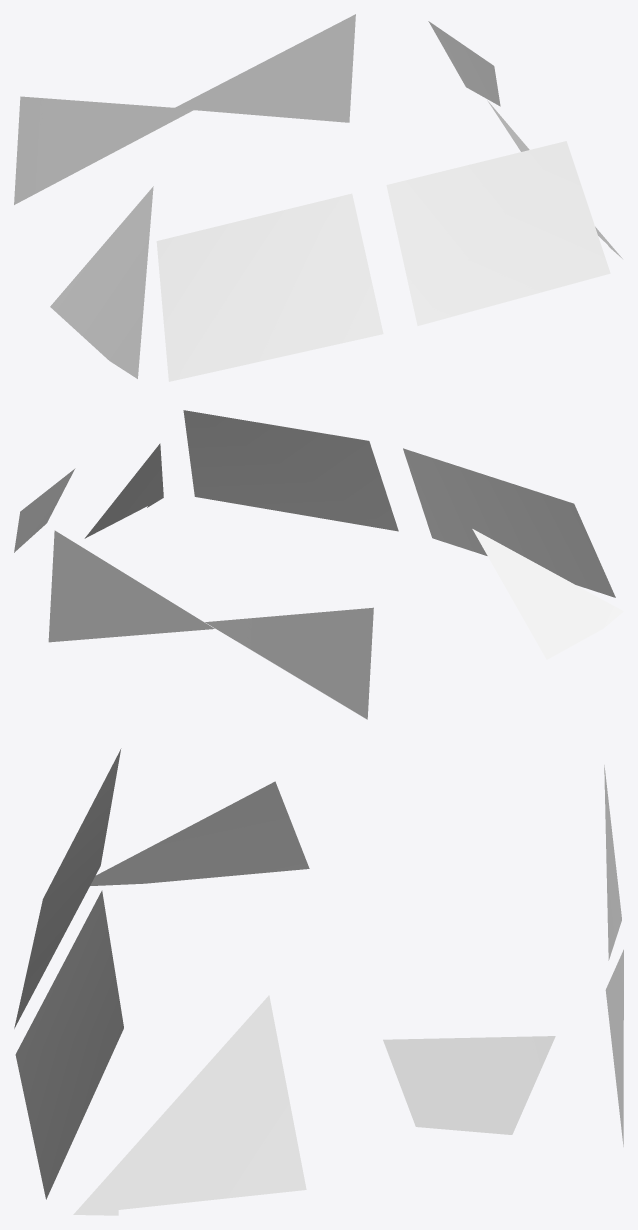
The picture shows the model from 3 angles, top to bottom: view 1: azimuth 30°, elevation 25°; view 2: azimuth 150°, elevation 25°; view 3: azimuth 270°, elevation 25°; orthographic projection. The views are drawn at different scales.
Bounding box in the file's own units: 2.52 × 0.622 × 1.95.
Materials: 1 (1 with a texture image).
